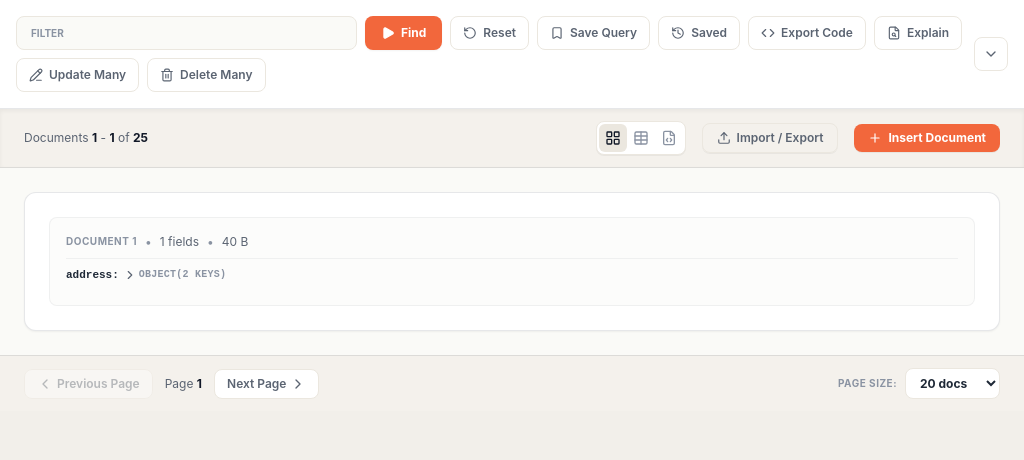
Test case: DocumentExplorer – Tree view rendering › renders nested object with expand/collapse toggle
Check: the text "Object(2 keys)" is shown, box [139, 267, 226, 283]
Note: Click to expand
Step 1. Click the button "Object(2 keys)" → (175, 275), box [123, 267, 226, 283]
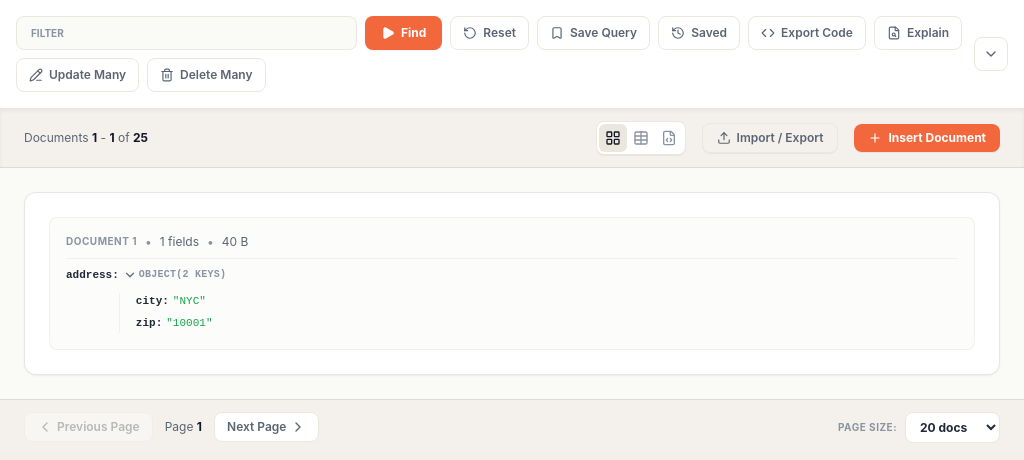
Check: the text "city:" is shown, box [136, 293, 169, 311]
Check: the text "\"NYC\"" is shown, box [173, 293, 206, 311]
Note: Click to collapse
Step 2. Click the button "Object(2 keys)" → (175, 275), box [123, 267, 226, 283]
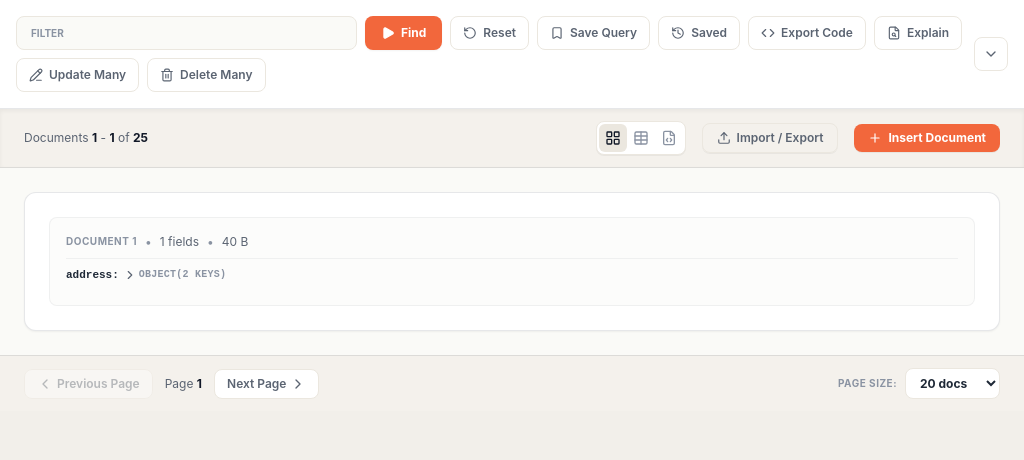
Check: the text "city:" is gone
